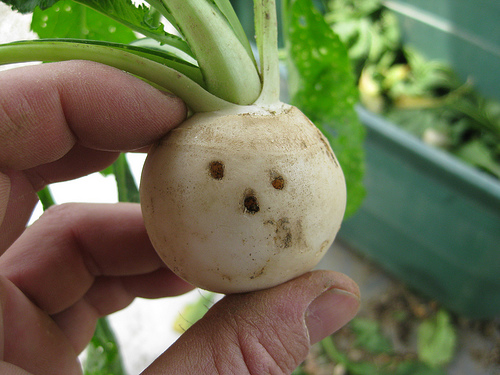turnip: (126, 78, 364, 306)
